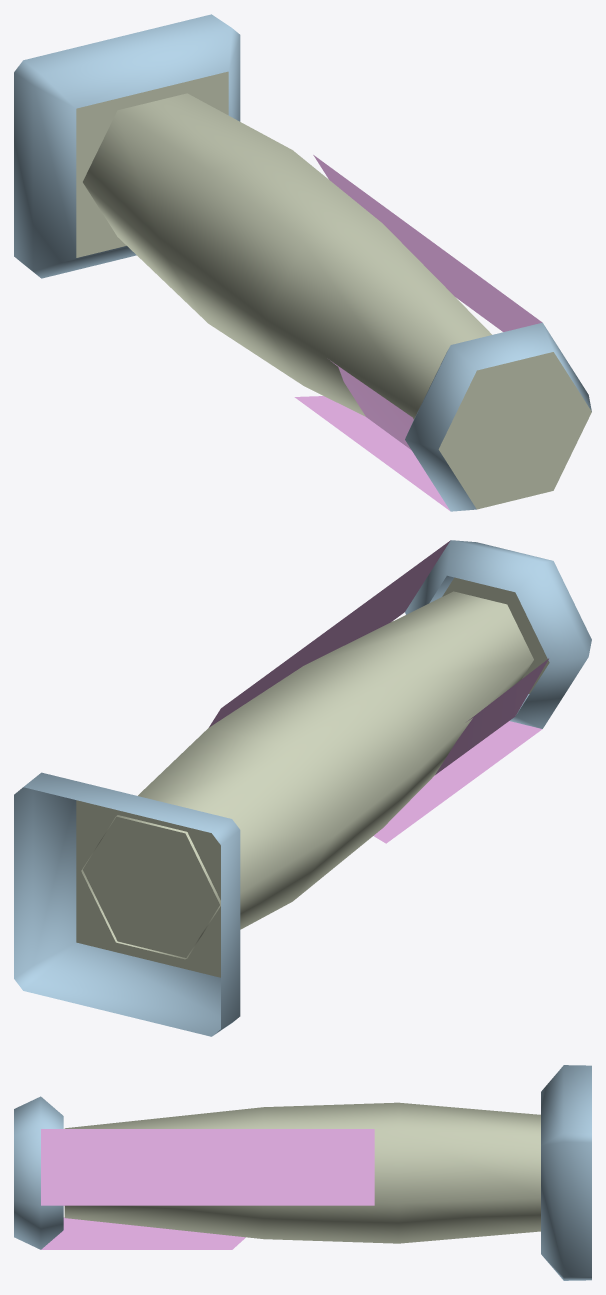
3 views of the same model, one above another, from view 1: azimuth 30°, elevation 25°; view 2: azimuth 150°, elevation 25°; view 3: azimuth 270°, elevation 25° (orthographic). The views are drawn at different scales.
Parts seen in each view (by area): view 1: Object38; view 2: Object38; view 3: Object38.
Boxes of the visible parts, box(x1,y1,x2,y2) form: Object38: box(14, 14, 591, 511); Object38: box(14, 540, 591, 1036); Object38: box(14, 1065, 591, 1280).
Bounding box in the file's own units: 664 × 624 × 2206.
